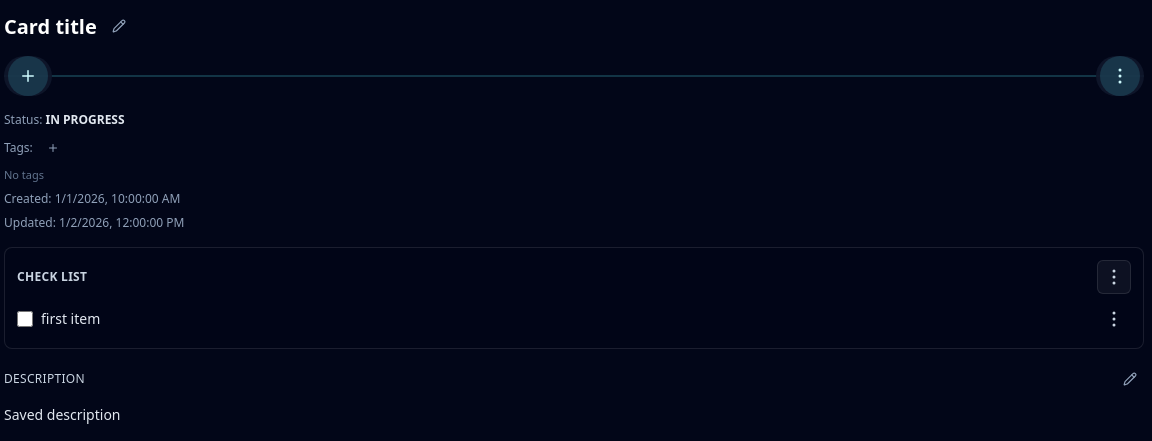
Test: TodoModalDetailsPanel › cancels checklist item inline edit with escape
Click the button with test id "todo-checklist-item-title-item-1": x=71, y=319 x1=41 y1=309 x2=100 y2=329
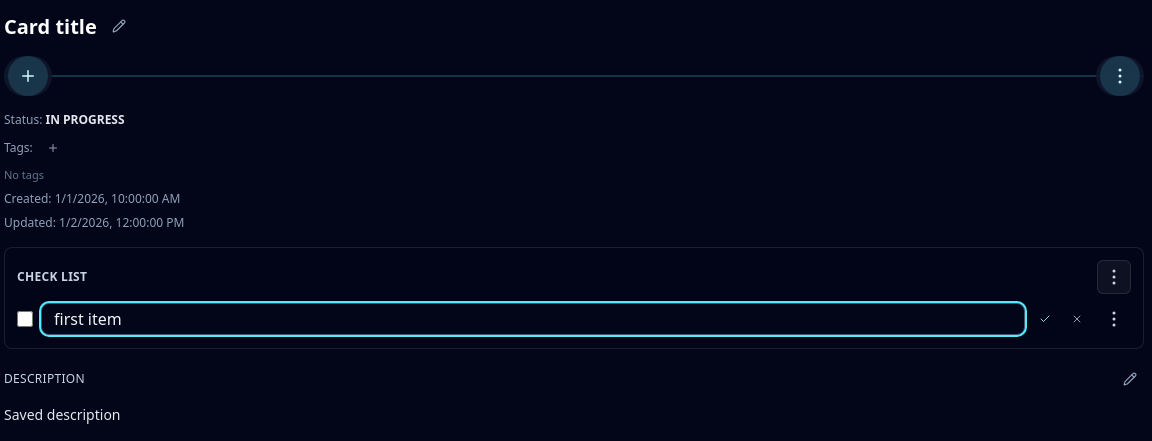
Replace the text in the field with test id "todo-checklist-item-input-item-1" with "draft item": x=533, y=319 x1=41 y1=303 x2=1025 y2=335
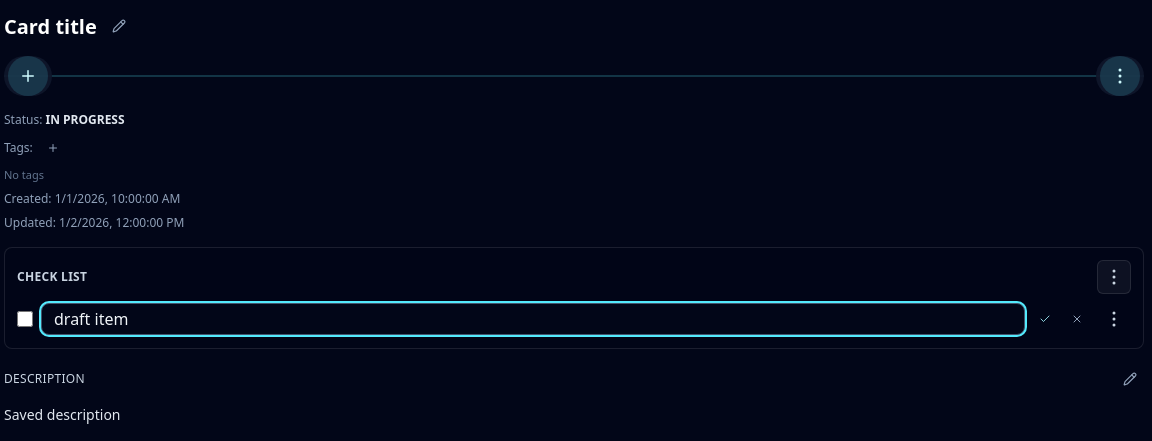
Press Escape in the field with test id "todo-checklist-item-input-item-1", box x1=41 y1=303 x2=1025 y2=335
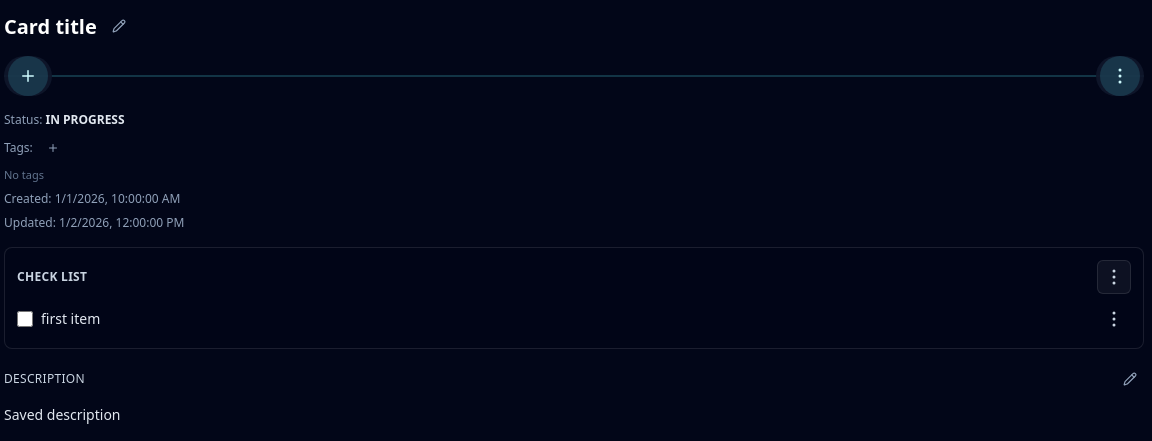
Expected: the field with test id "todo-checklist-item-input-item-1" is gone
